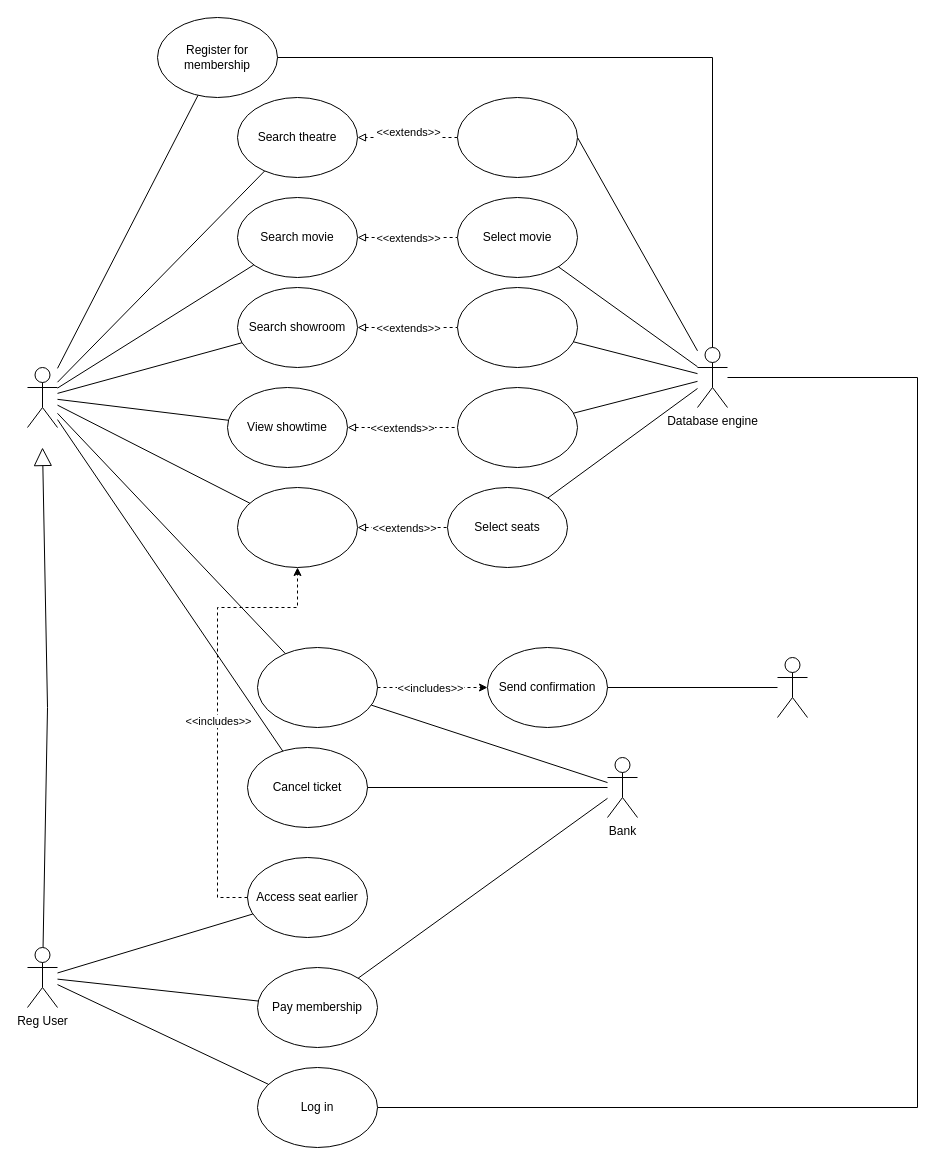
Image size: 936x1165. Some labels were removed from this diagram. The shapes that lost their labels are listed below. From the top down, each one's box as (x1, y1, x2, y2) in pixels, then its label:
(456, 96, 578, 178): Select theatre
(456, 286, 578, 368): Select showroom
(26, 366, 58, 428): User
(456, 386, 578, 468): Select showtime
(236, 486, 358, 568): View seats
(256, 646, 378, 728): Pay ticket
(776, 656, 808, 718): Email Server
